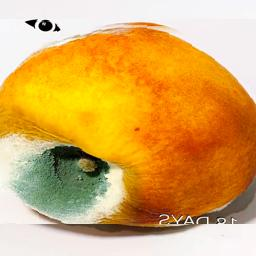Peach Rotten: (0, 20, 256, 225)
